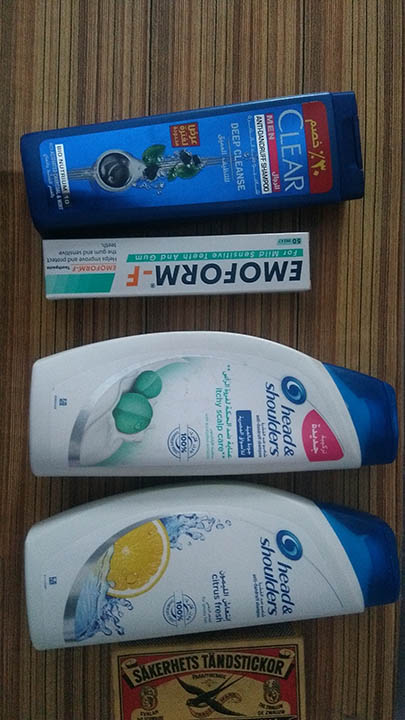Shampoo-Clear 4.7$: (13, 109, 376, 217)
Toothpaste-F 1.5$: (39, 237, 316, 298)
match-sticks .90$: (109, 645, 299, 720)
shampoo-Lemon 3.5$: (16, 490, 396, 624)
shampoo-green 4.5$: (26, 334, 404, 473)
